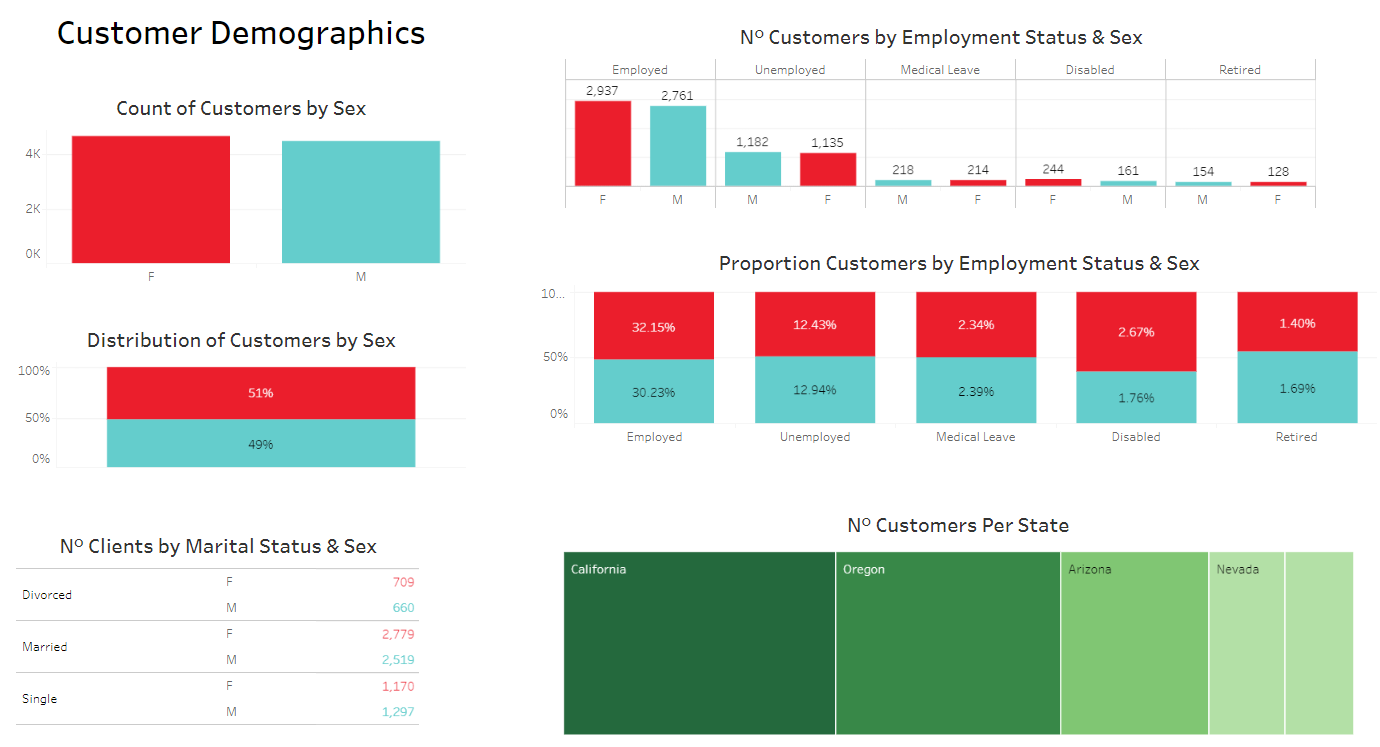

Layout of this report page (visuals, bound fields, positions):
{"tool":"tableau","page":{"name":"Customer Demographics Dashboard","canvas":[1500,800],"ordinal":0},"visuals":[{"type":"worksheet","title":"employment_gender","mark":"Automatic","rows":["Customer"],"cols":["EmploymentStatus","Gender"],"box":[599,28,817,243]},{"type":"text","box":[50,38,500,60]},{"type":"worksheet","title":"count_cust_gender","mark":"Automatic","rows":["Customer"],"cols":["Gender"],"box":[50,99,500,248]},{"type":"worksheet","title":"employment_gender_dist","mark":"Automatic","cols":["EmploymentStatus"],"box":[600,279,836,221]},{"type":"worksheet","title":"dist_cust_gender","mark":"Automatic","box":[50,331,500,199]},{"type":"worksheet","title":"num_cust_state","mark":"Automatic","box":[593,516,848,285]},{"type":"worksheet","title":"marital_status_sex","mark":"Automatic","rows":["Marital Status","Gender"],"box":[50,537,500,256]}]}

Visuals, with their boxes in screenshot pixels (x1, y1, x2, y2), scaled from the page's 1500x800 canvas onto the 1380x747 screenshot:
"employment_gender" worksheet: left=551, top=26, right=1303, bottom=253
text: left=46, top=35, right=506, bottom=92
"count_cust_gender" worksheet: left=46, top=92, right=506, bottom=324
"employment_gender_dist" worksheet: left=552, top=261, right=1321, bottom=467
"dist_cust_gender" worksheet: left=46, top=309, right=506, bottom=495
"num_cust_state" worksheet: left=546, top=482, right=1326, bottom=746
"marital_status_sex" worksheet: left=46, top=501, right=506, bottom=740
